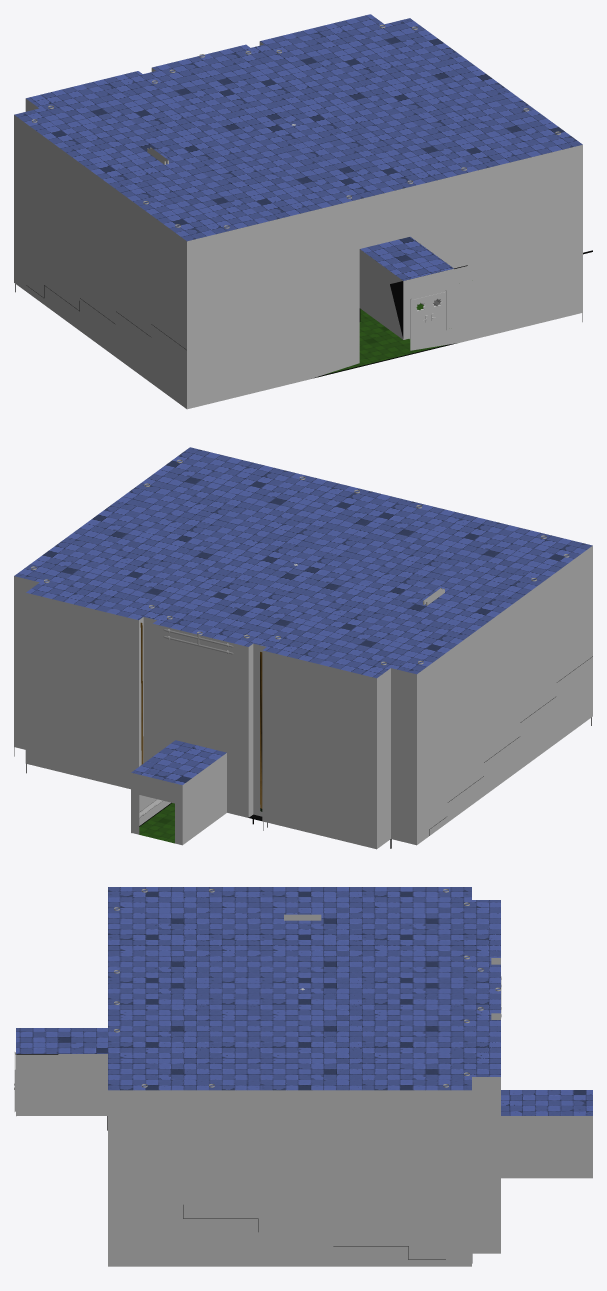
File: OD_Room.fbx
3 views of the same model, one above another, from view 1: azimuth 30°, elevation 25°; view 2: azimuth 150°, elevation 25°; view 3: azimuth 270°, elevation 25° (orthographic). The views are drawn at different scales.
Parts seen in each view (by area): view 1: Wall, Roof, Floor, Walls_Border, pasted__polySurface133, pasted__polySurface132; view 2: Wall, Roof, Floor, Curtain, BIG_P; view 3: Roof, Wall.
Part boxes in pixels (<box>): Wall: <box>14,41,582,409</box>; Roof: <box>14,14,582,280</box>; Floor: <box>325,309,447,374</box>; Walls_Border: <box>15,250,592,378</box>; pasted__polySurface133: <box>412,297,428,338</box>; pasted__polySurface132: <box>429,293,445,334</box>; Wall: <box>14,546,592,849</box>; Roof: <box>14,447,592,785</box>; Floor: <box>139,803,174,843</box>; Curtain: <box>140,622,262,811</box>; BIG_P: <box>31,459,569,665</box>; Roof: <box>16,887,592,1115</box>; Wall: <box>16,958,592,1266</box>.
Size of the model in its own units: 74.57 by 31.82 by 87.62.
